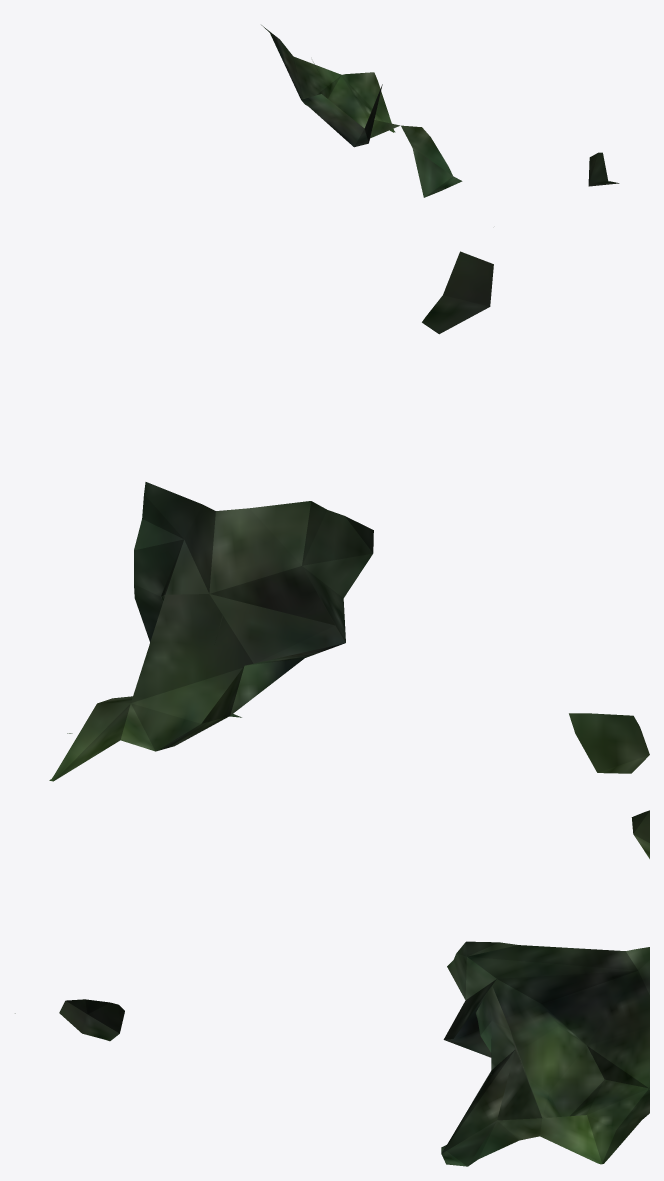
The picture shows the model from 3 angles, top to bottom: view 1: azimuth 30°, elevation 25°; view 2: azimuth 150°, elevation 25°; view 3: azimuth 270°, elevation 25°; orthographic projection. The views are drawn at different scales.
Bounding box in the file's own units: 8.18 × 2.96 × 10.84.
Materials: 1 (1 with a texture image).
